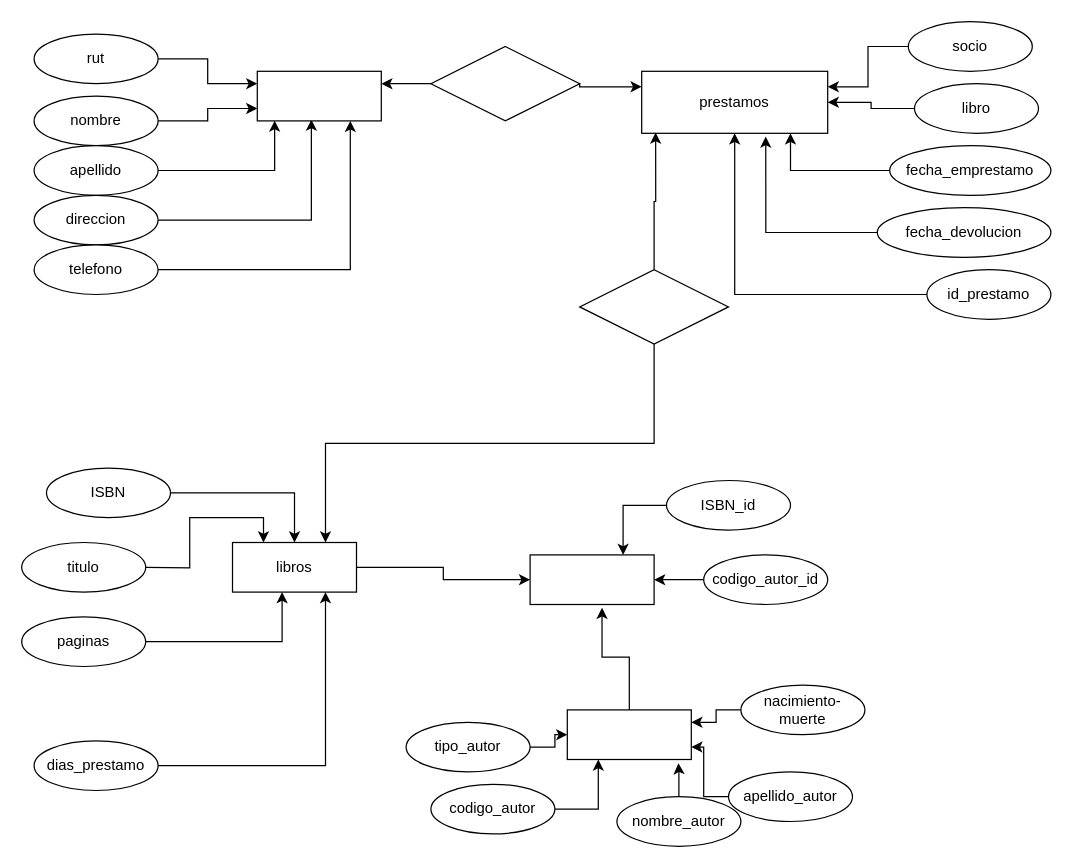
The diagram is 1073 pixels wide and 868 high, and some of its shapes have lost their labels. The shapes that lost their labels are listed below. From the top down, each one's centre as x and y in pixels, then its label:
(318,95): socios
(505,83): pide
(653,306): incluir
(591,579): libros_autores
(628,734): autores
